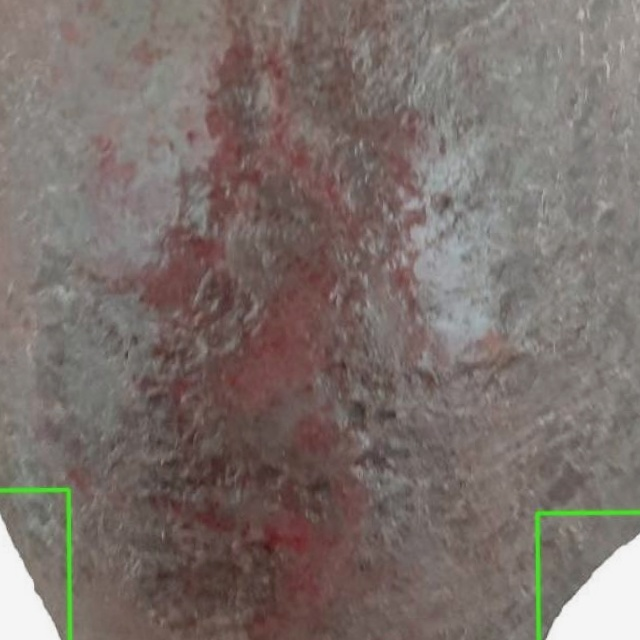Contact Dermatitis: (536, 512, 639, 639), (0, 489, 70, 639)
